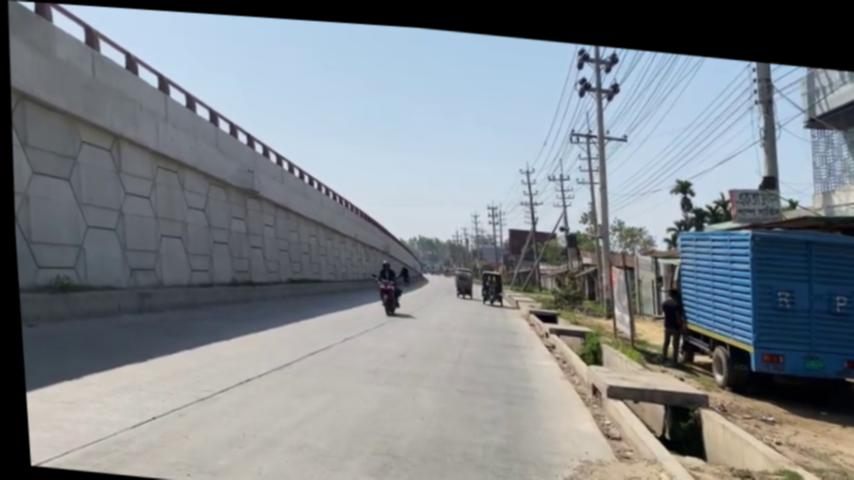Curb: (365, 266, 401, 312)
Fallen-tree: (0, 0, 435, 347)
Fence: (652, 276, 683, 355), (370, 253, 398, 302)
Garbage: (564, 34, 638, 321), (749, 50, 783, 193)
Garbage-bin: (607, 366, 747, 472), (559, 313, 612, 368)
Rickshaw: (664, 204, 854, 392), (475, 262, 499, 298), (449, 259, 470, 292)
